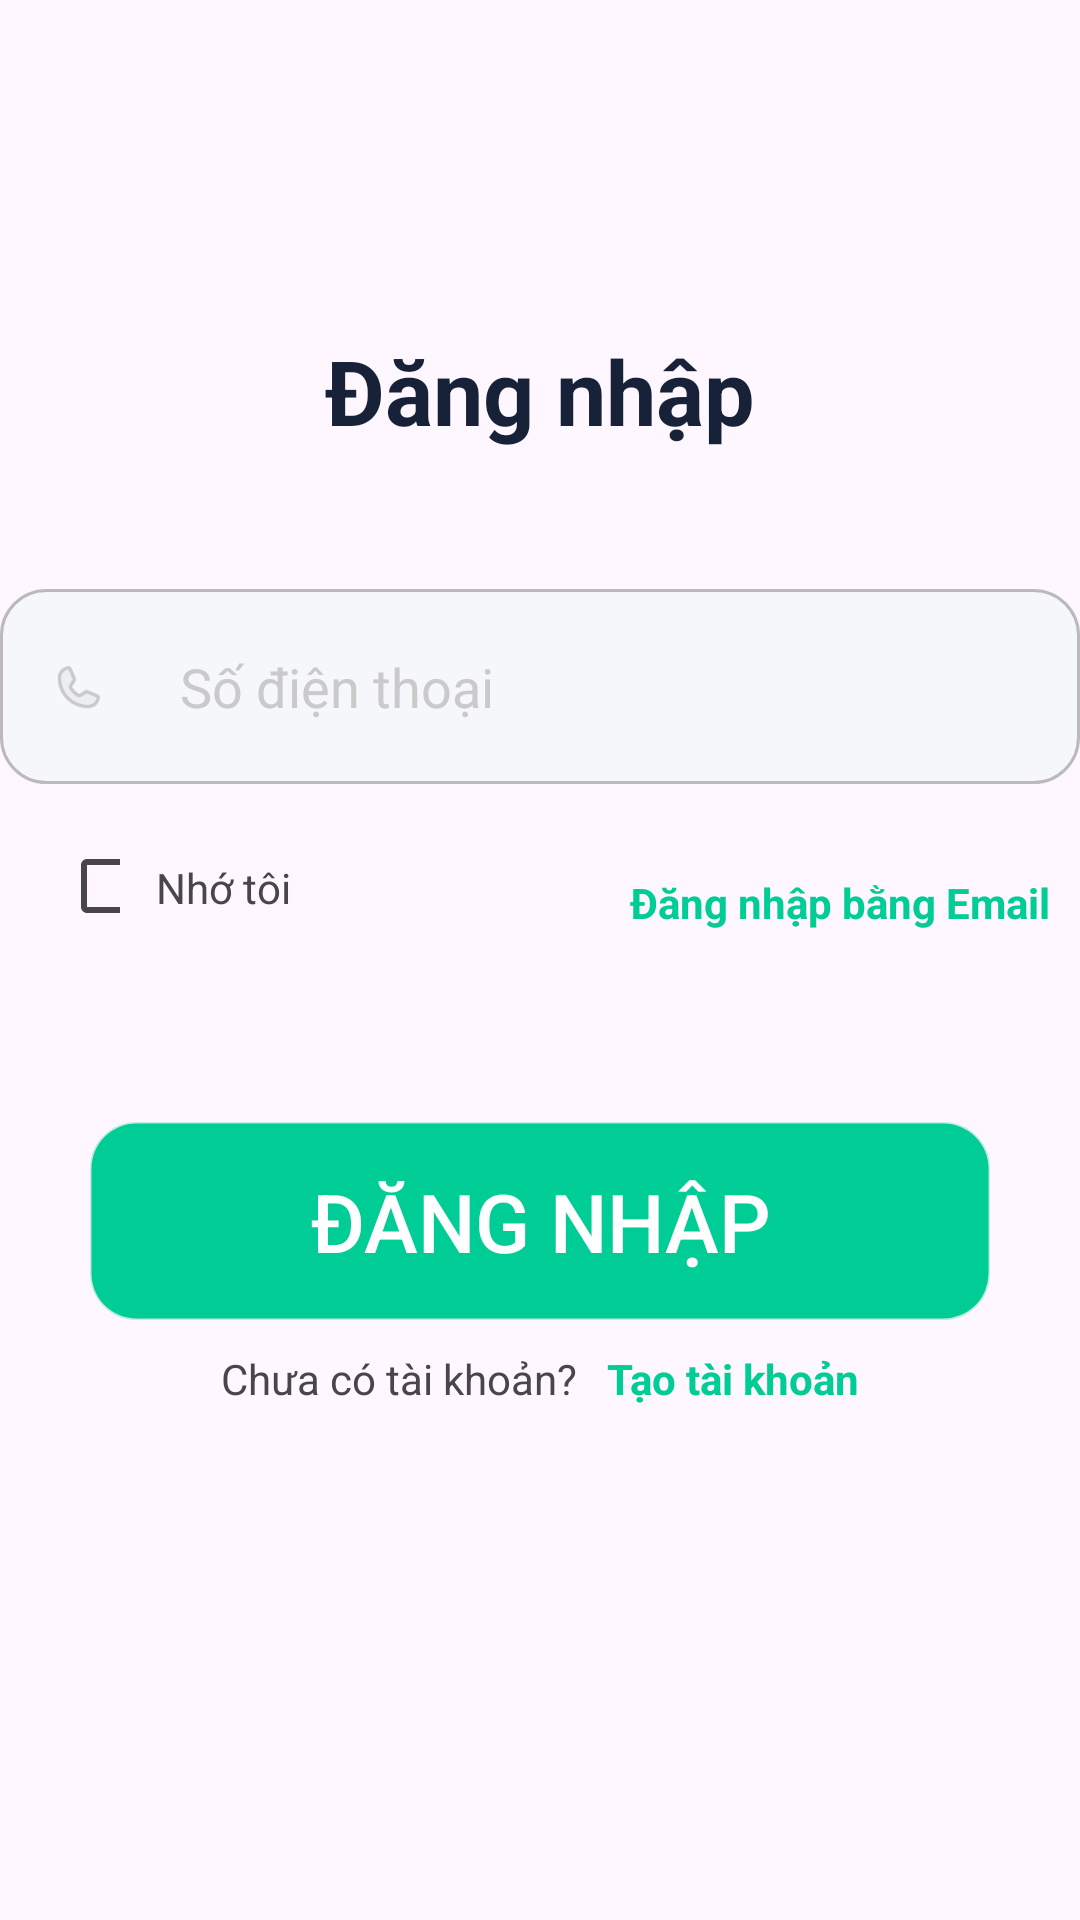

Point at icon controls on the screen. Image size 1080×1920, points as (x=x, y=y).
phone: (x=79, y=687)
